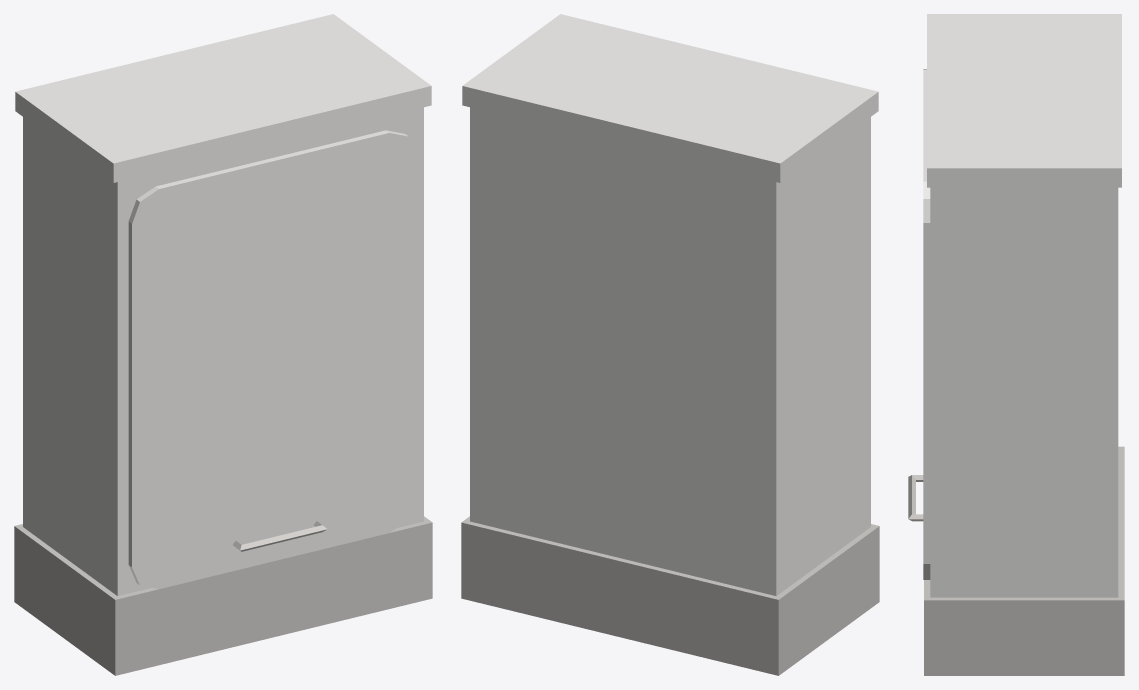
Rendered from SM_fusebox_large.fbx.
3 views of the same model, side by side, from view 1: azimuth 30°, elevation 25°; view 2: azimuth 150°, elevation 25°; view 3: azimuth 270°, elevation 25° (orthographic).
Visible parts, largest first — view 1: Box093; view 2: Box093; view 3: Box093.
Boxes of the visible parts, x1=… form: Box093: x1=14, y1=14, x2=432, y2=675; Box093: x1=461, y1=14, x2=879, y2=675; Box093: x1=908, y1=14, x2=1124, y2=675.
Size of the model in its own units: 41.88 by 24.85 by 64.34.
